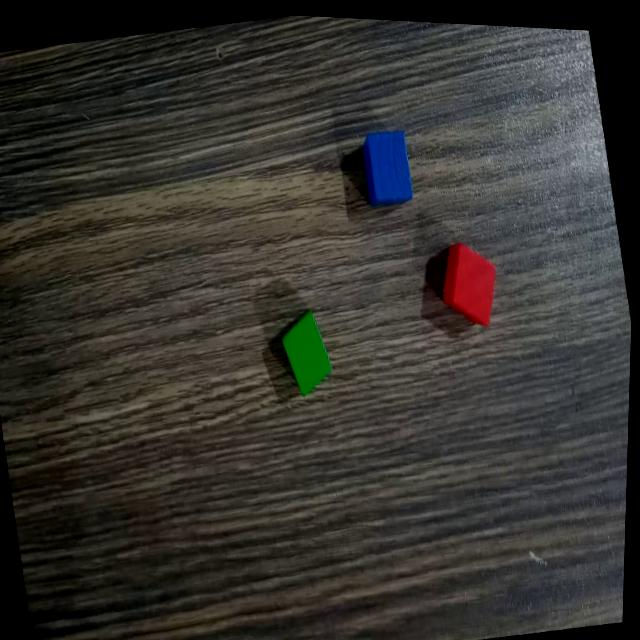cube: (433, 227, 511, 333), (274, 296, 344, 398), (355, 118, 421, 208)
